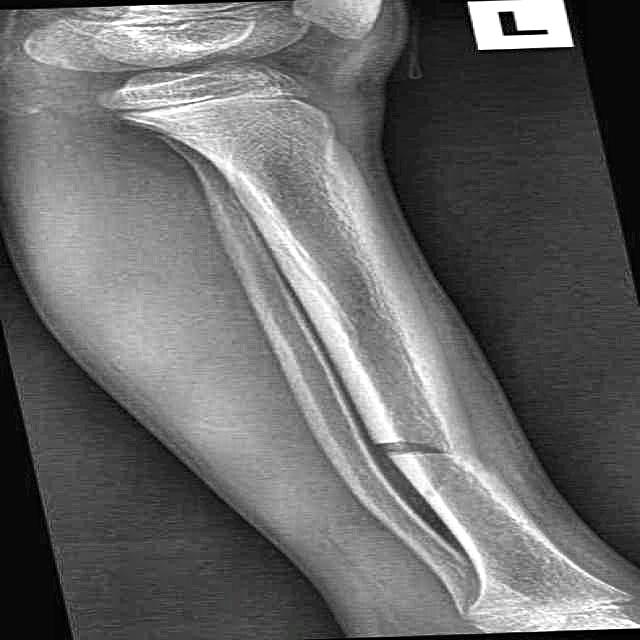Greenstick: (348, 424, 512, 492)
